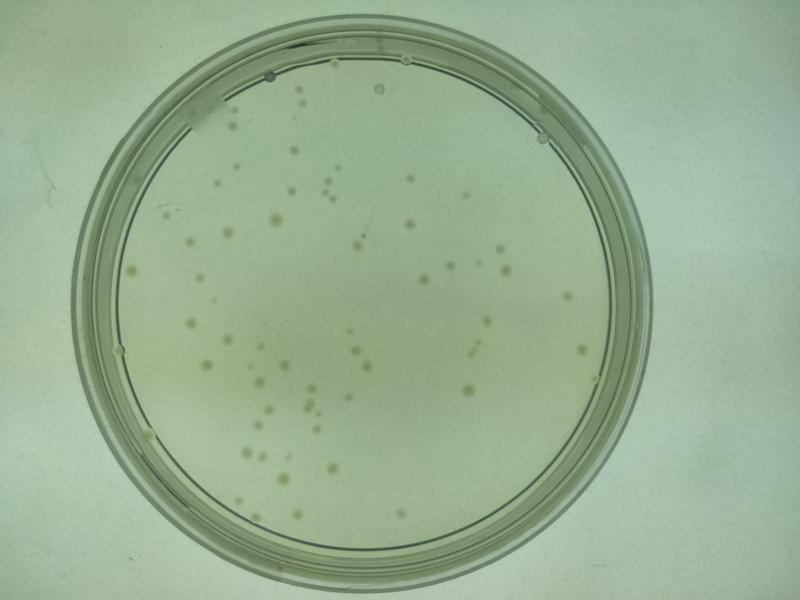colony: (571, 338, 592, 357), (197, 356, 215, 376), (323, 459, 342, 477), (217, 330, 235, 348), (402, 167, 418, 186), (457, 382, 476, 398), (496, 261, 513, 278), (347, 342, 364, 359), (399, 216, 415, 234), (490, 240, 508, 256), (123, 260, 138, 279), (178, 235, 197, 250), (457, 187, 474, 203), (442, 258, 459, 274), (275, 470, 291, 487), (267, 213, 283, 230), (222, 225, 237, 243), (417, 272, 432, 288), (560, 291, 576, 306), (182, 316, 198, 331), (238, 442, 252, 459), (279, 357, 293, 373), (252, 374, 266, 390), (287, 145, 302, 159), (192, 270, 205, 285), (284, 185, 298, 198), (341, 392, 356, 404)
